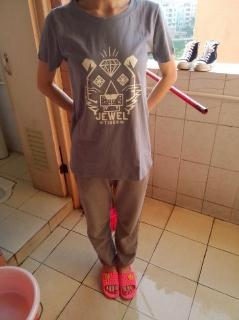short sleeve top: (38, 0, 176, 181)
trousers: (73, 125, 150, 267)
